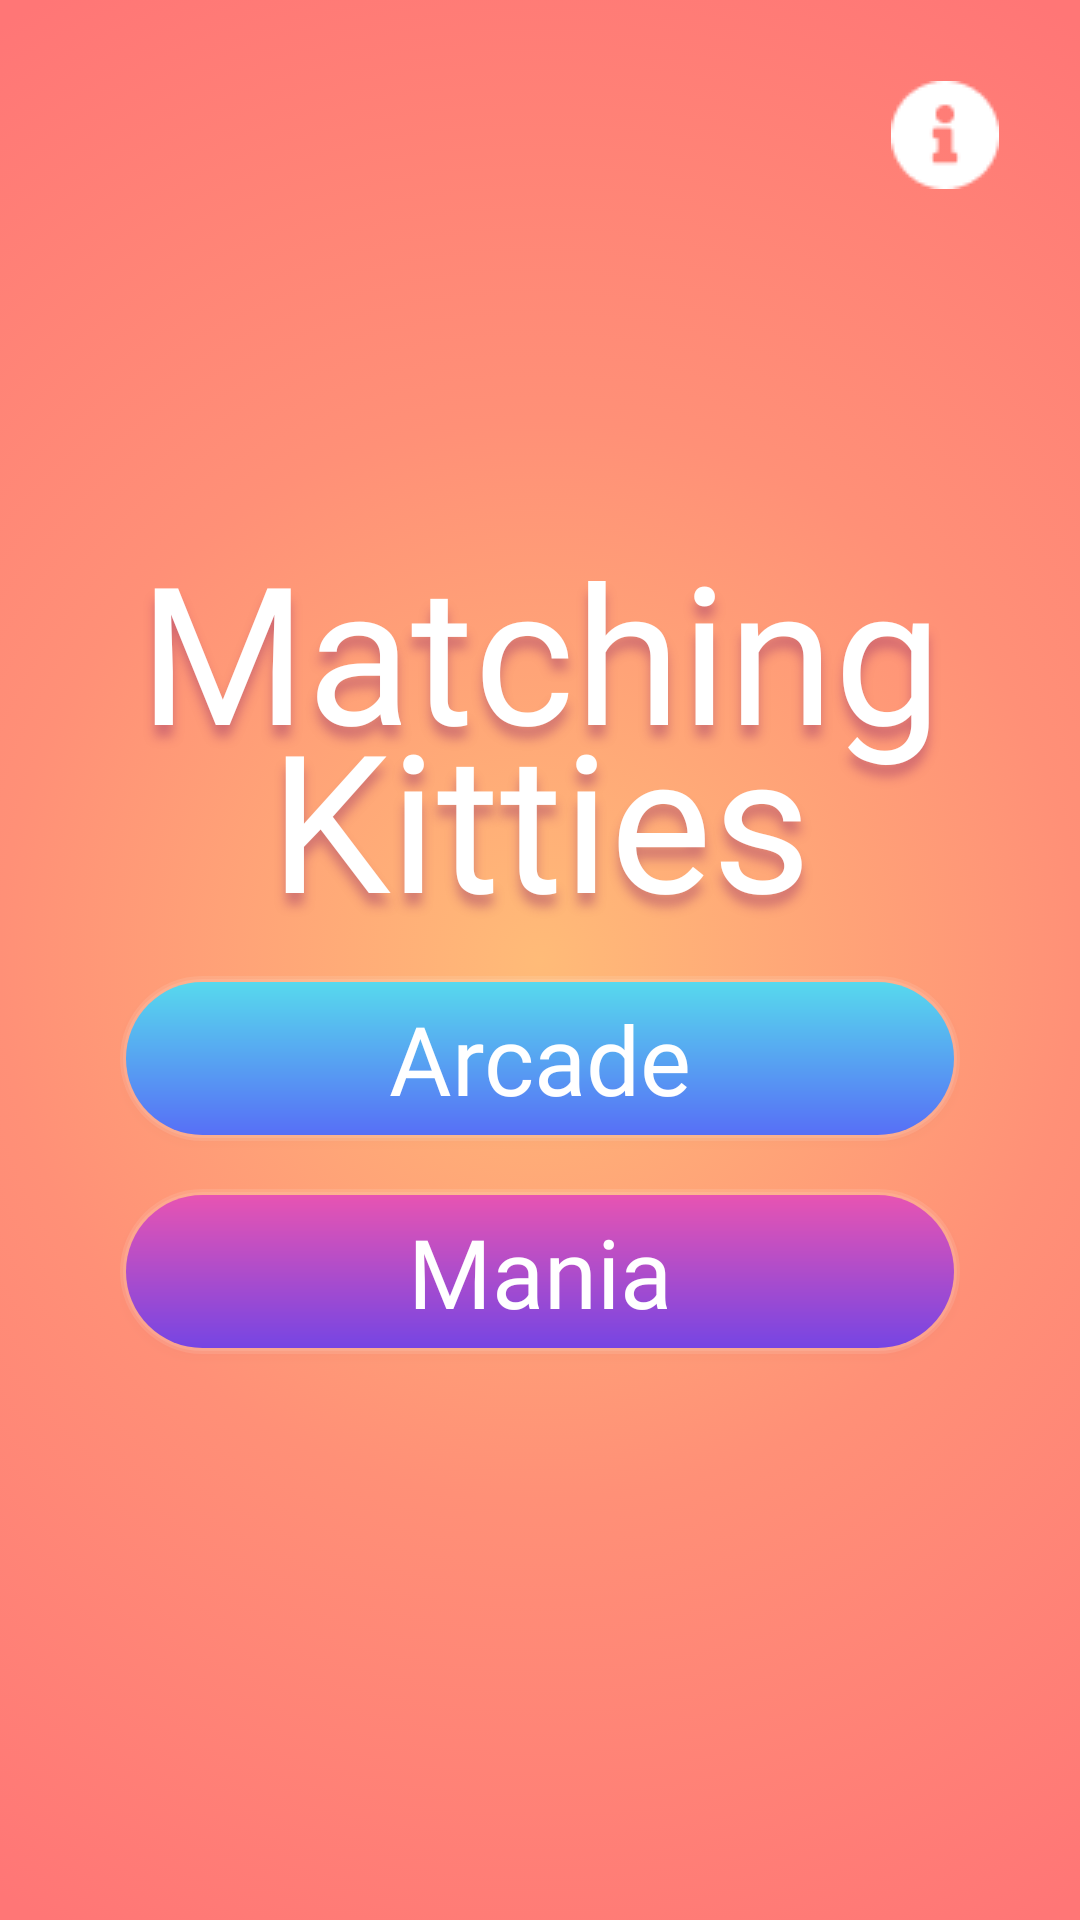

Where to tap for icons on this 1080×1920 app screen, as (x,y):
about: (945,135)
